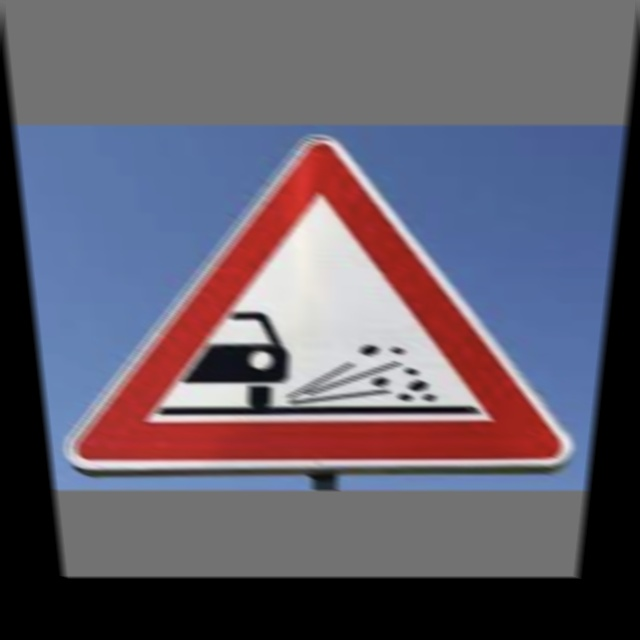Loose_Gravel: (82, 158, 570, 467)
